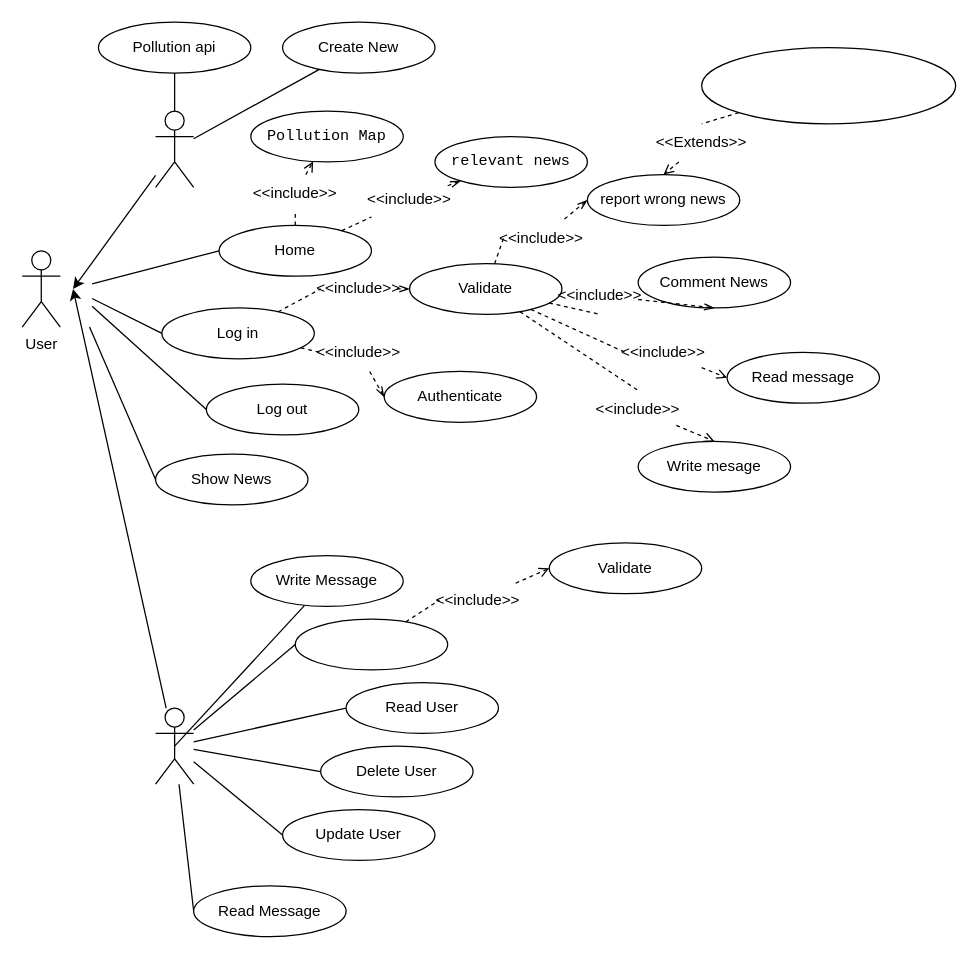
The diagram is 978 pixels wide and 959 high, and some of its shapes have lost their labels. Each missing label, with the centre of its shape:
"Admin" belongs at point 174,745.
"Create new User" belongs at point 371,644.
"In case it has not already been sent" belongs at point 828,85.
"investigator" belongs at point 174,148.
